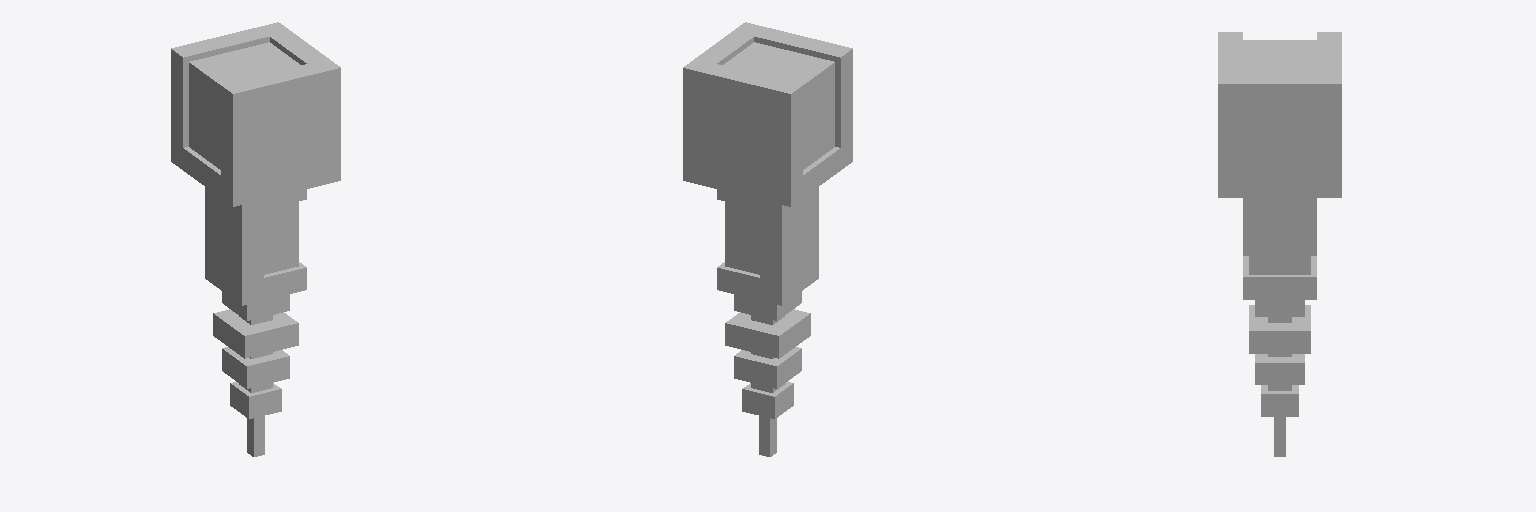
File: arm_blaster_l.obj
The picture shows the model from 3 angles: view 1: azimuth 30°, elevation 25°; view 2: azimuth 150°, elevation 25°; view 3: azimuth 270°, elevation 25°; orthographic projection.
Visible parts, largest first — view 1: ARM_LEFT_BLASTER_Cube.028; view 2: ARM_LEFT_BLASTER_Cube.028; view 3: ARM_LEFT_BLASTER_Cube.028.
Boxes of the visible parts, x1,y1,x2,y2 form: ARM_LEFT_BLASTER_Cube.028: [171, 22, 340, 456]; ARM_LEFT_BLASTER_Cube.028: [683, 22, 852, 456]; ARM_LEFT_BLASTER_Cube.028: [1218, 32, 1341, 456].
Size of the model in its own units: 0.3125 by 1.09 by 0.3125.